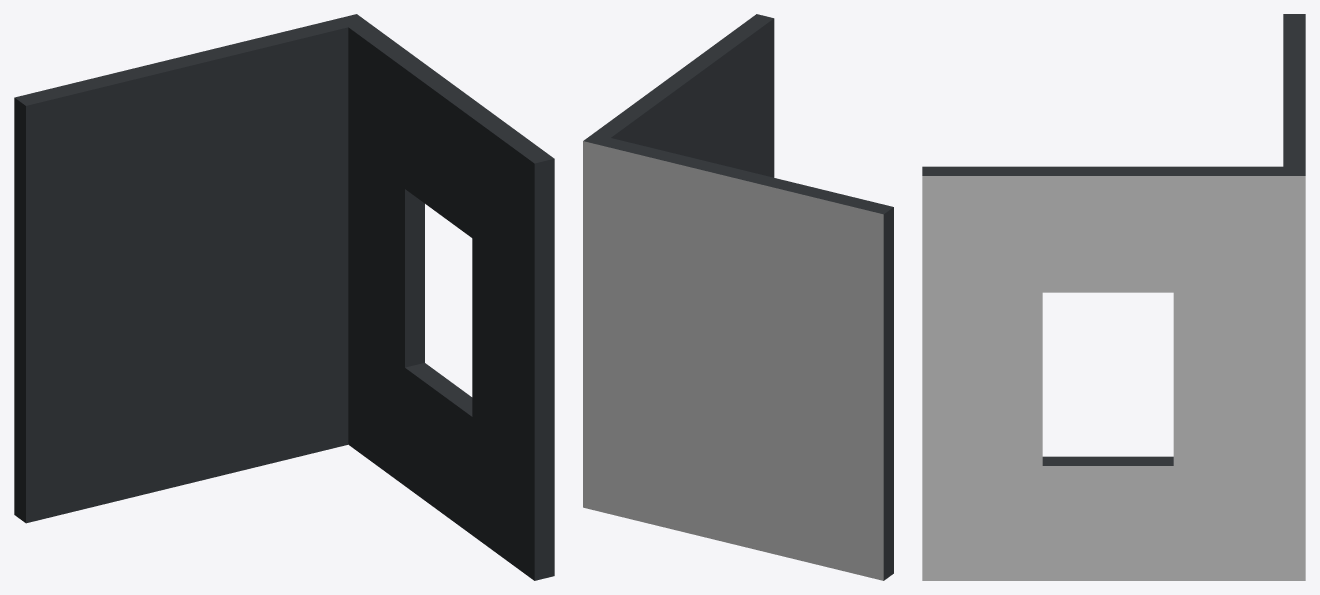
Rendered from Wall1_C4_08.fbx.
The picture shows the model from 3 angles, left to right: view 1: azimuth 30°, elevation 25°; view 2: azimuth 150°, elevation 25°; view 3: azimuth 270°, elevation 25°; orthographic projection. The views are drawn at different scales.
Parts seen in each view (by area): view 1: Wall1_C4_08; view 2: Wall1_C4_08; view 3: Wall1_C4_08.
Boxes of the visible parts, left/top/right/bottom form: Wall1_C4_08: left=14, top=14, right=554, bottom=580; Wall1_C4_08: left=583, top=14, right=893, bottom=580; Wall1_C4_08: left=922, top=14, right=1305, bottom=580.
Bounding box in the file's own units: 258 × 300 × 258.
